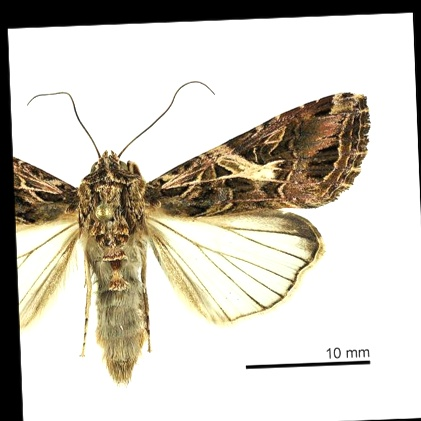Spodoptera litura: (16, 80, 376, 390)
